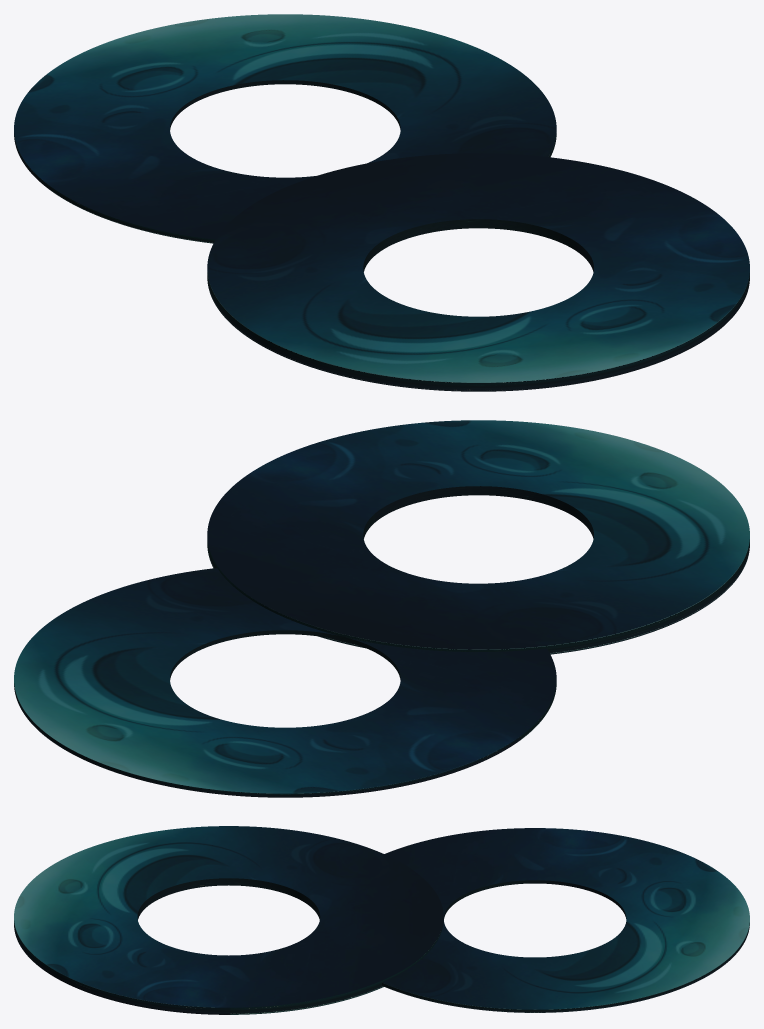
The model's file is road.fbx.
The picture shows the model from 3 angles, top to bottom: view 1: azimuth 30°, elevation 25°; view 2: azimuth 150°, elevation 25°; view 3: azimuth 270°, elevation 25°; orthographic projection. The views are drawn at different scales.
Parts seen in each view (by area): view 1: pasted__group2_pasted__pasted__pasted__pCylinder1; view 2: pasted__group2_pasted__pasted__pasted__pCylinder1; view 3: pasted__group2_pasted__pasted__pasted__pCylinder1.
Boxes of the visible parts, left/top/right/bottom form: pasted__group2_pasted__pasted__pasted__pCylinder1: left=14, top=14, right=749, bottom=391; pasted__group2_pasted__pasted__pasted__pCylinder1: left=14, top=420, right=749, bottom=797; pasted__group2_pasted__pasted__pasted__pCylinder1: left=14, top=826, right=749, bottom=1014.
Bounding box in the file's own units: 11.97 × 0.2223 × 20.5.
Materials: 2 (2 with a texture image).
